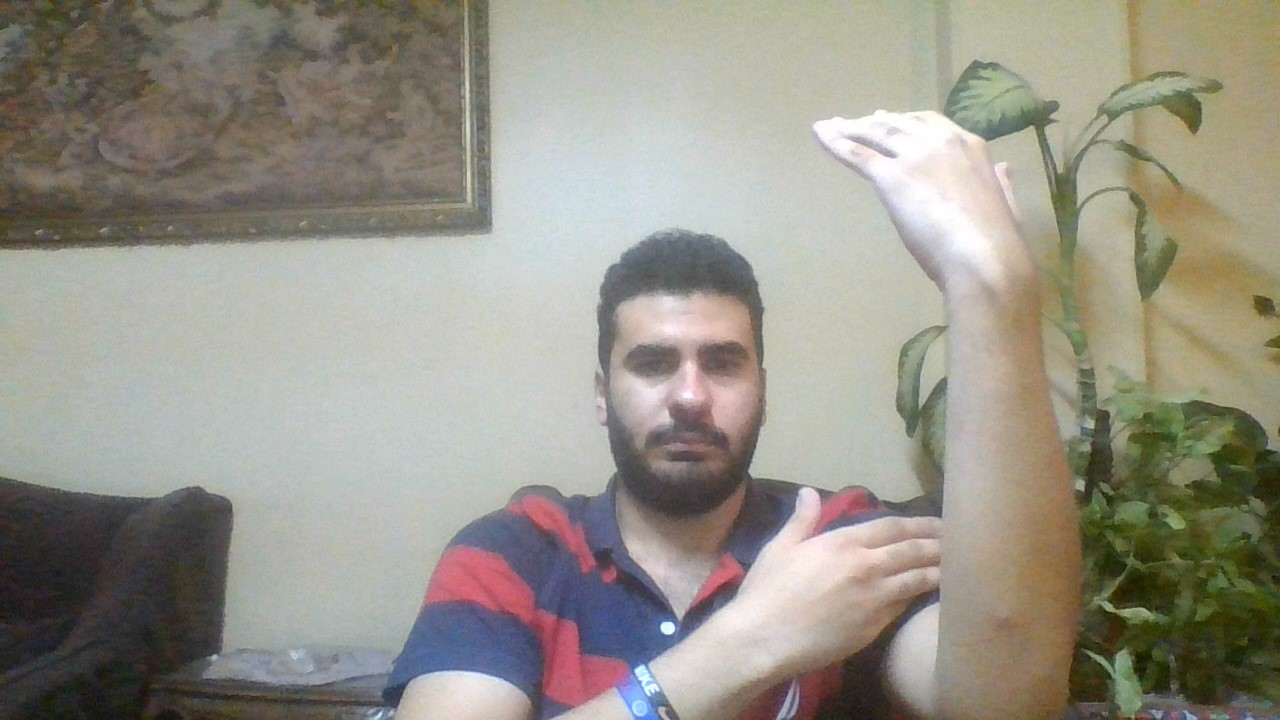morning: (750, 98, 1063, 720)
